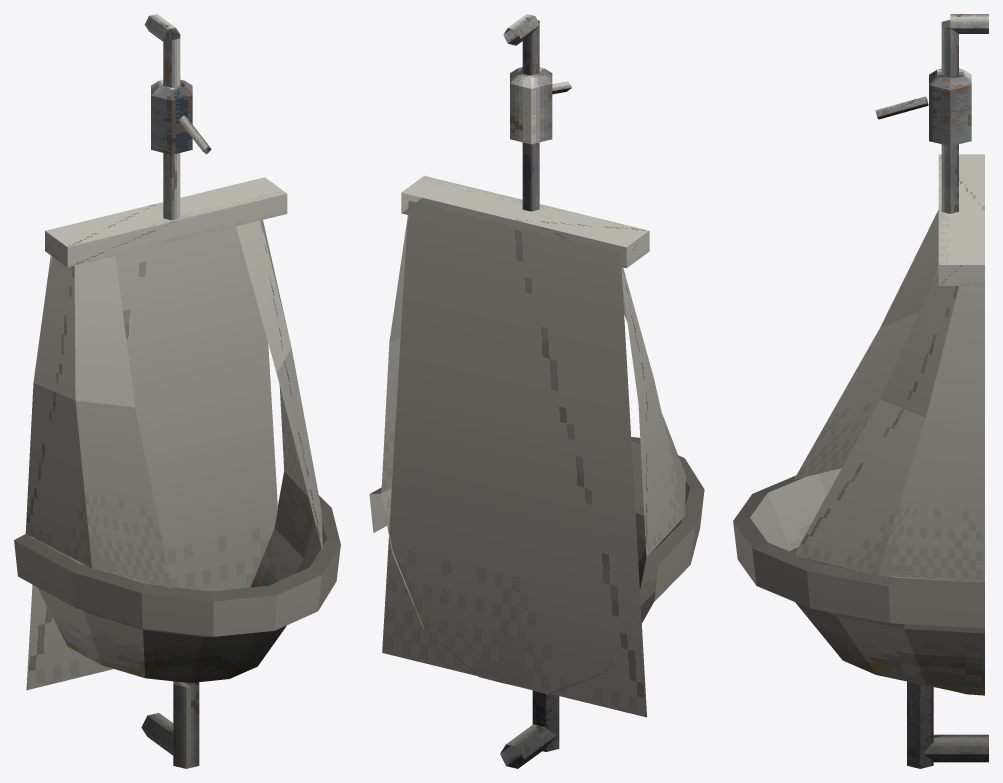
The model's file is prop_urinal-2.glb.
3 views of the same model, side by side, from view 1: azimuth 30°, elevation 25°; view 2: azimuth 150°, elevation 25°; view 3: azimuth 270°, elevation 25° (orthographic). The views are drawn at different scales.
Parts seen in each view (by area): view 1: prop_urinal-2; view 2: prop_urinal-2; view 3: prop_urinal-2.
Part boxes in pixels (bbox=[...]): prop_urinal-2: bbox=[14, 14, 340, 768]; prop_urinal-2: bbox=[369, 14, 704, 768]; prop_urinal-2: bbox=[733, 14, 988, 768].
Size of the model in its own units: 0.435 by 1.07 by 0.3315.
Materials: 2 (2 with a texture image).
